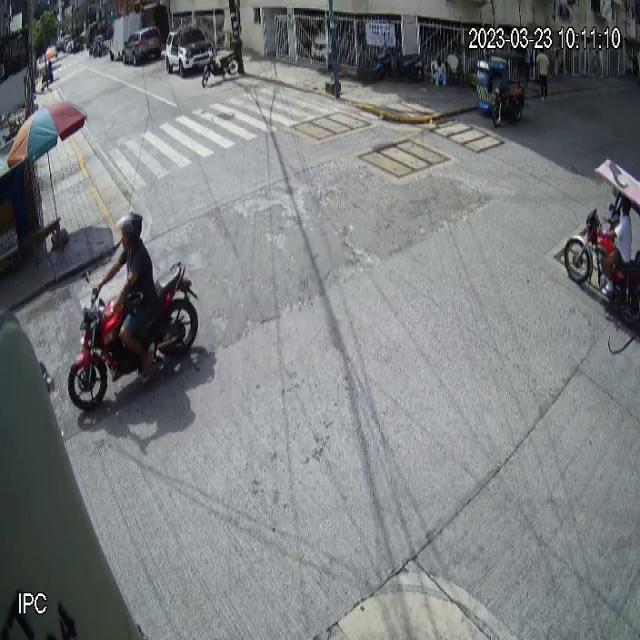Motorcycle: (67, 258, 199, 412)
Tricycle: (563, 157, 640, 326), (475, 50, 526, 129)
